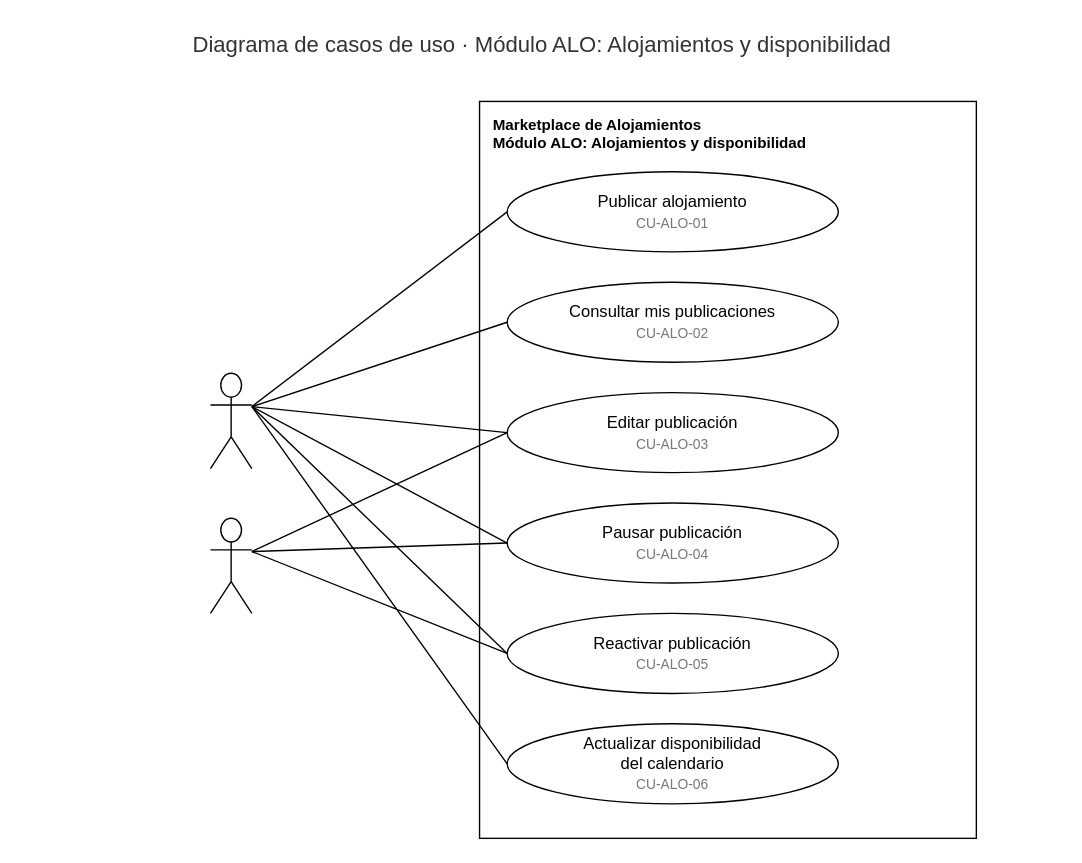
Image size: 1082x863. Some labels were removed from this diagram. Each missing label, with the centre of its shape:
Administrador: point (230, 565)
Anfitrión: point (230, 420)
